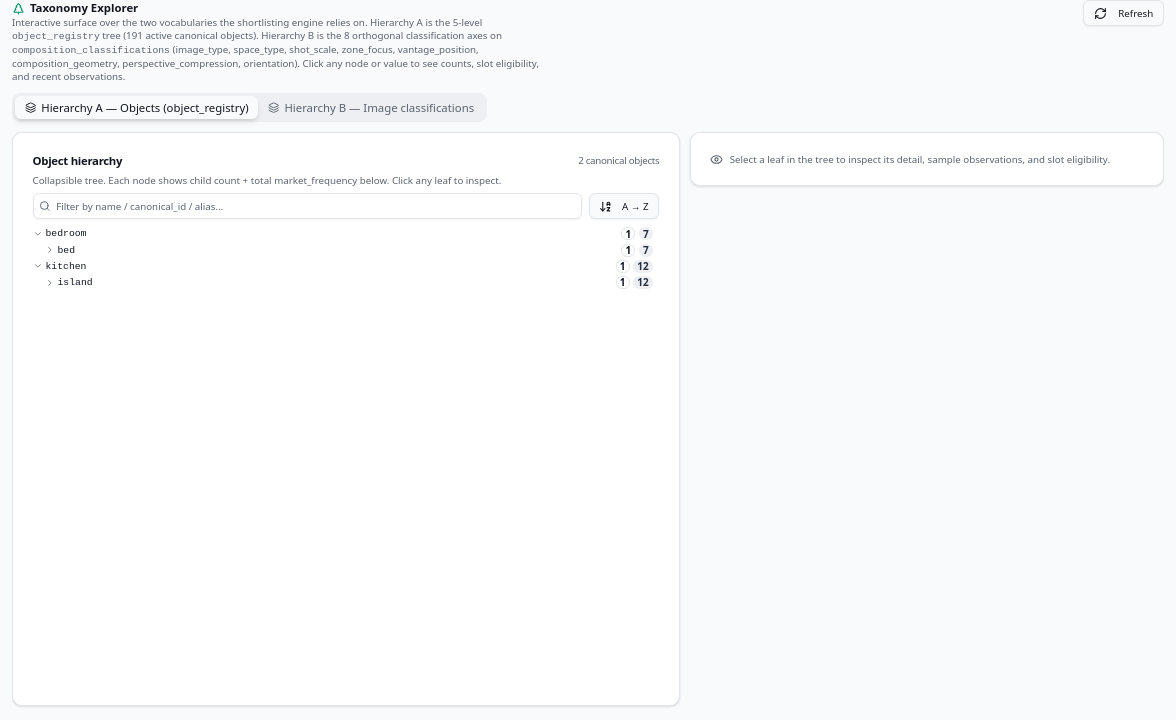
Scenario: TaxonomyExplorerTab — W11.6.26 + mig 441 › Hierarchy B legacy axes section is closed by default and opens on click
The width and height of the screenshot is (1176, 720).
Click the tab with test id "taxonomy-mode-b".
click(371, 108)  # box [258,96,484,119]
(page scrolled)
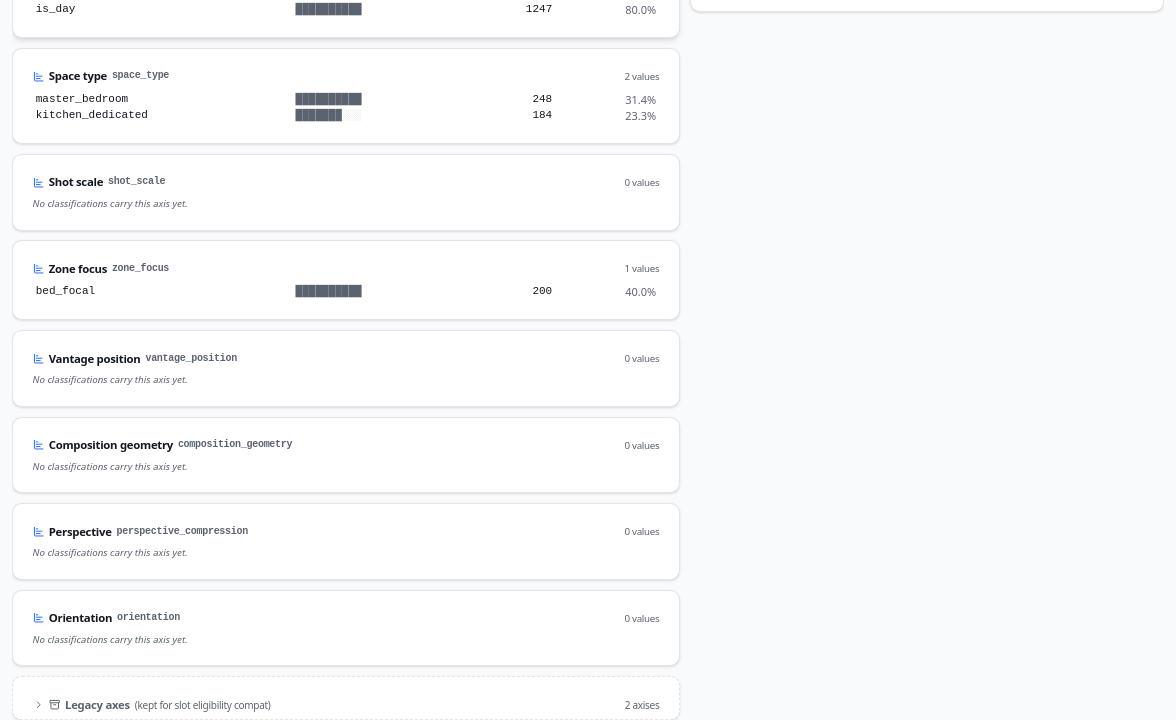
Click to open.
Click the button with test id "taxonomy-b-legacy-toggle".
click(97, 704)  # box [32,696,659,712]
(page scrolled)
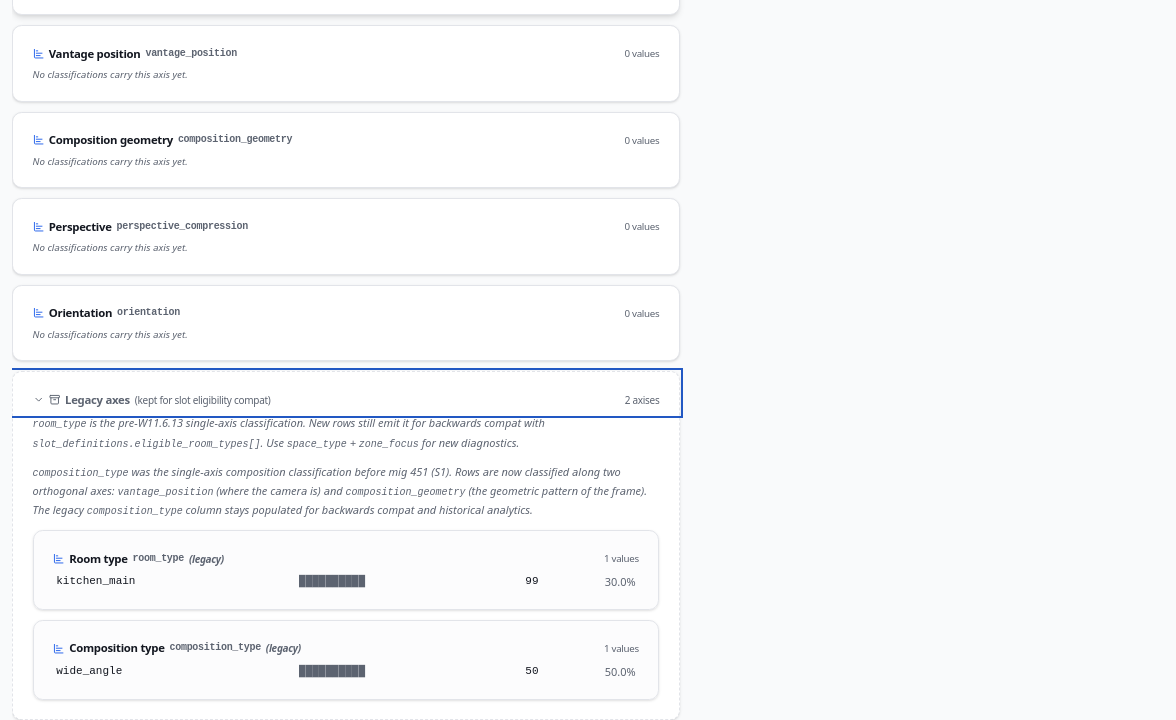
Expected: the element with test id "taxonomy-b-legacy-content" is shown, [13,414,679,719]
Expected: the element with test id "taxonomy-b-axis-room_type" is shown, [32,530,659,610]
